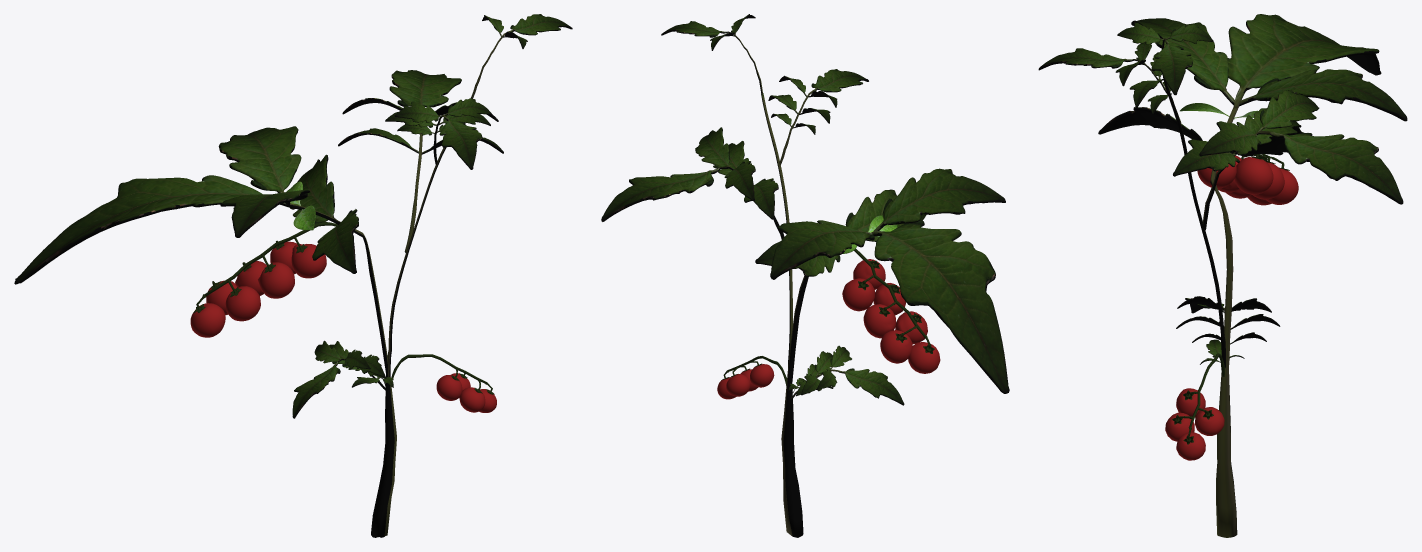
File: tomato.glb
3 views of the same model, side by side, from view 1: azimuth 30°, elevation 25°; view 2: azimuth 150°, elevation 25°; view 3: azimuth 270°, elevation 25° (orthographic). The views are drawn at different scales.
Visible parts, largest first — view 1: Object_2, Object_4, Object_3; view 2: Object_2, Object_4, Object_3; view 3: Object_2, Object_4, Object_3.
Part boxes in pixels (x1,y1,x2,y2): Object_2: (14, 14, 572, 537); Object_4: (190, 241, 496, 412); Object_3: (193, 221, 494, 394); Object_2: (601, 14, 1009, 537); Object_4: (717, 259, 940, 399); Object_3: (721, 249, 934, 385); Object_2: (1038, 14, 1407, 537); Object_4: (1165, 155, 1298, 460); Object_3: (1172, 154, 1289, 444).
Size of the model in its own units: 1.11 by 1.17 by 0.6914.
4 materials, 2 textured.
